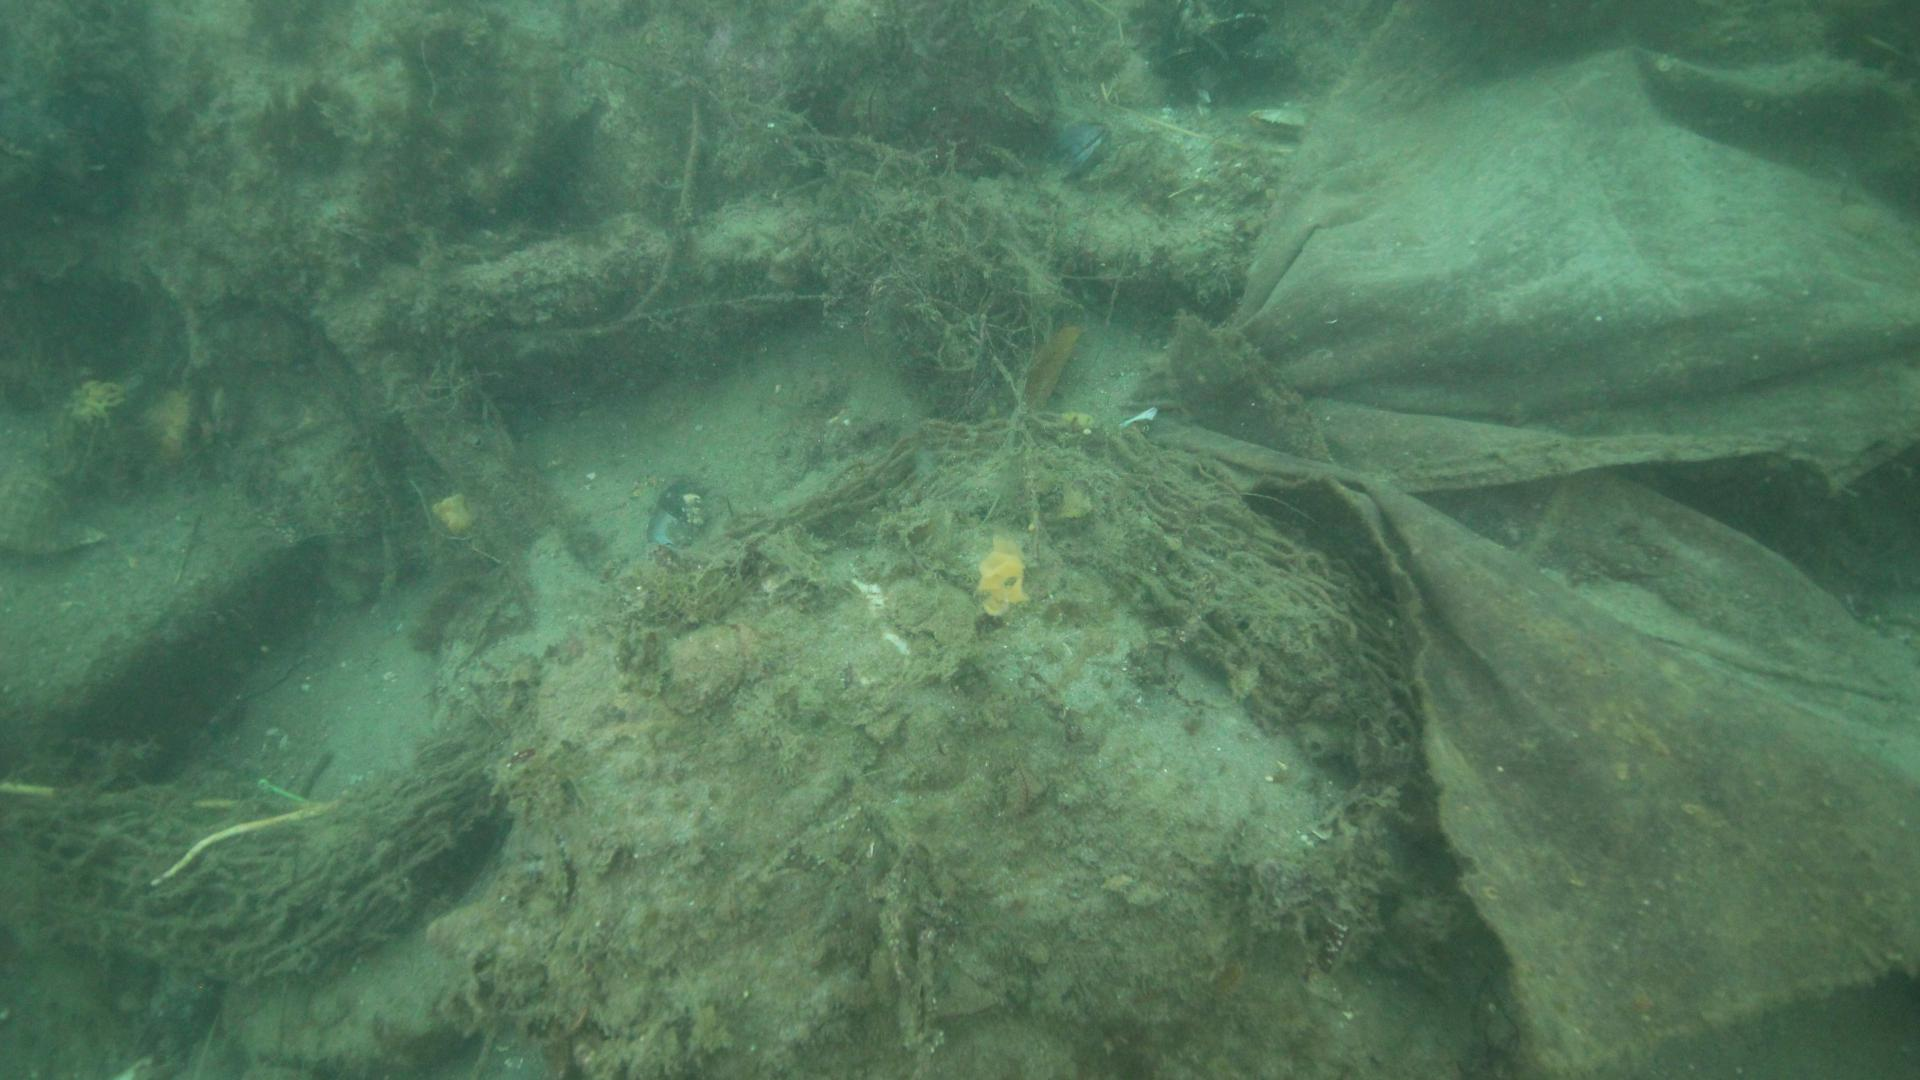fish net: (0, 785, 306, 984)
